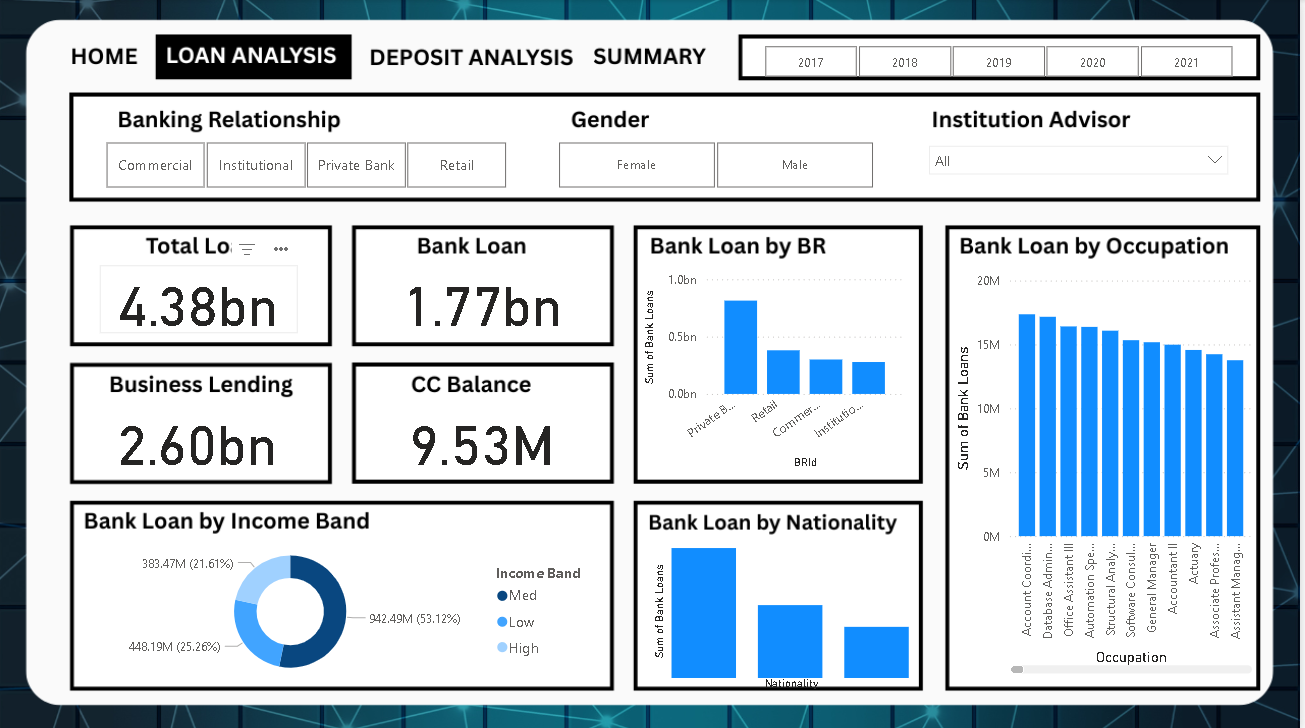

What the dashboard file says about the page in this screenshot:
{"tool":"powerbi","page":{"name":"Loan Analysis","canvas":[1280,720],"ordinal":1},"visuals":[{"type":"slicer","fields":{"Values":["banking_case customers.Year of Joining"]},"box":[728.8,39.3,509.2,44.2],"z":0},{"type":"actionButton","box":[66.3,39.3,87.1,44.2],"z":1000},{"type":"actionButton","box":[355.8,39.3,218.4,44.2],"z":2000},{"type":"actionButton","box":[582.8,39.3,122.7,44.2],"z":3000},{"type":"card","fields":{"Values":["banking_case customers.Total Loan"]},"box":[101.8,261.4,193.9,67.5],"z":4000},{"type":"card","fields":{"Values":["Sum(banking_case customers.Bank Loans)"]},"box":[380.4,261.4,193.9,67.5],"z":5000},{"type":"card","fields":{"Values":["Sum(banking_case customers.Business Lending)"]},"box":[106.9,399.2,182.7,66.3],"z":6000},{"type":"card","fields":{"Values":["Sum(banking_case customers.Credit Card Balance)"]},"box":[380.3,399.2,193.5,66.3],"z":7000},{"type":"donutChart","fields":{"Category":["banking_case customers.Income Band"],"Y":["Sum(banking_case customers.Bank Loans)"]},"box":[82.6,526.5,511.6,150.2],"z":8000},{"type":"clusteredColumnChart","fields":{"Category":["banking_case customers.BRId"],"Y":["Sum(banking_case customers.Bank Loans)"]},"box":[630.7,261.2,265.3,204.4],"z":9000},{"type":"clusteredColumnChart","fields":{"Category":["banking_case customers.Nationality"],"Y":["Sum(banking_case customers.Bank Loans)"]},"box":[640.1,521,265.3,161],"z":10000},{"type":"clusteredColumnChart","fields":{"Category":["banking_case customers.Occupation"],"Y":["Sum(banking_case customers.Bank Loans)"]},"box":[936.5,262.6,301.8,404.7],"z":11000},{"type":"slicer","fields":{"Values":["banking_case customers.BRId"]},"box":[82.6,134,442.5,58.2],"z":12000},{"type":"slicer","fields":{"Values":["banking_case customers.GenderId"]},"box":[526.5,134,358.6,58.2],"z":13000},{"type":"slicer","fields":{"Values":["banking_case customers.IAId"]},"box":[905.4,134,314,58.2],"z":14000}]}

Visuals, with their boxes in screenshot pixels (x1, y1, x2, y2), scaled from the page's 1280x720 canvas onto the 1305x728 screenshot:
slicer - banking_case customers.Year of Joining: [743,40,1262,84]
actionButton: [68,40,156,84]
actionButton: [363,40,585,84]
actionButton: [594,40,719,84]
card - banking_case customers.Total Loan: [104,264,301,333]
card - Sum(banking_case customers.Bank Loans): [388,264,586,333]
card - Sum(banking_case customers.Business Lending): [109,404,295,471]
card - Sum(banking_case customers.Credit Card Balance): [388,404,585,471]
donutChart - banking_case customers.Income Band x Sum(banking_case customers.Bank Loans): [84,532,606,684]
clusteredColumnChart - banking_case customers.BRId x Sum(banking_case customers.Bank Loans): [643,264,914,471]
clusteredColumnChart - banking_case customers.Nationality x Sum(banking_case customers.Bank Loans): [653,527,923,690]
clusteredColumnChart - banking_case customers.Occupation x Sum(banking_case customers.Bank Loans): [955,266,1262,675]
slicer - banking_case customers.BRId: [84,135,535,194]
slicer - banking_case customers.GenderId: [537,135,902,194]
slicer - banking_case customers.IAId: [923,135,1243,194]
